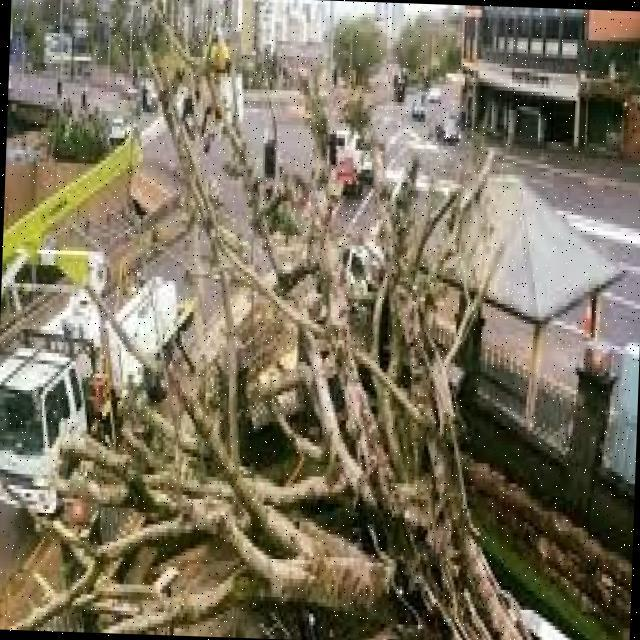fallen_object: (58, 88, 561, 640)
